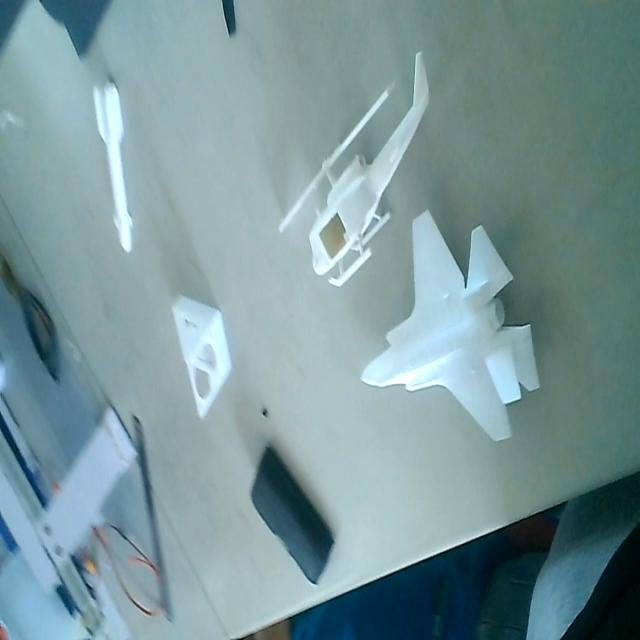Helicopter: (278, 50, 436, 295)
Jet: (356, 210, 544, 453)
Rocket: (90, 74, 136, 258)
